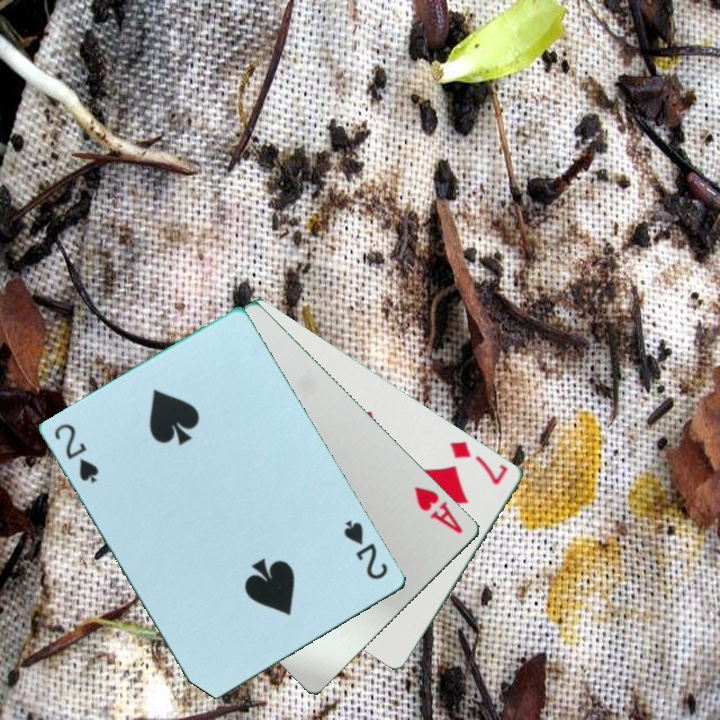2s: (338, 516, 392, 583), (51, 419, 103, 487)
7d: (447, 437, 512, 488)
Ah: (411, 482, 467, 537)
